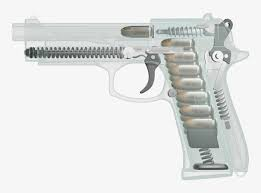gun: (7, 13, 251, 181)
